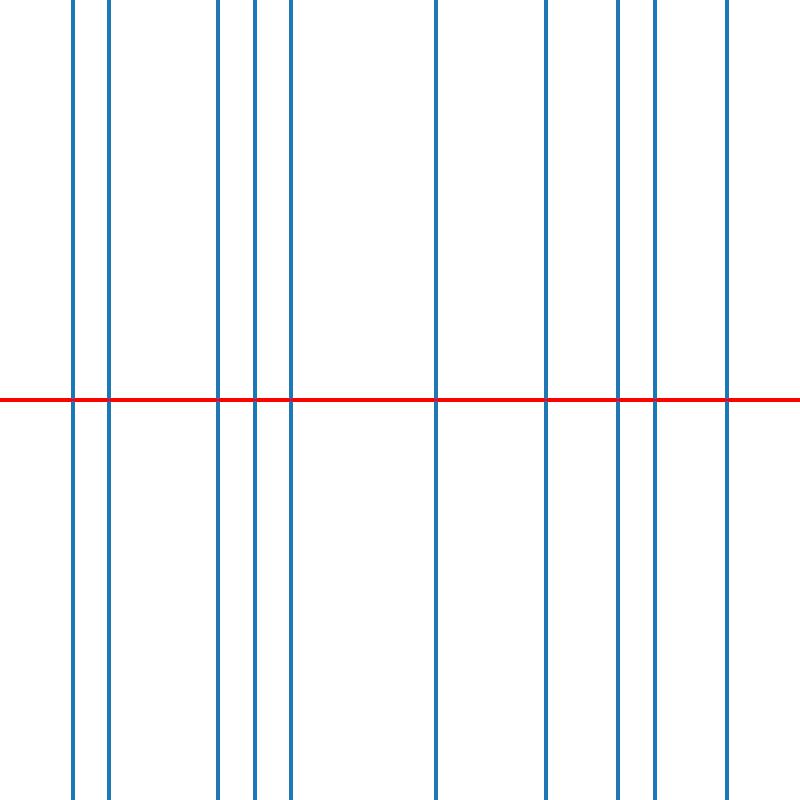root: (250, 396, 258, 404), (432, 396, 440, 404), (541, 396, 549, 404), (650, 396, 658, 404), (214, 396, 221, 404), (614, 396, 621, 404), (287, 396, 294, 404), (105, 396, 112, 404), (723, 396, 730, 404), (69, 396, 76, 404)
